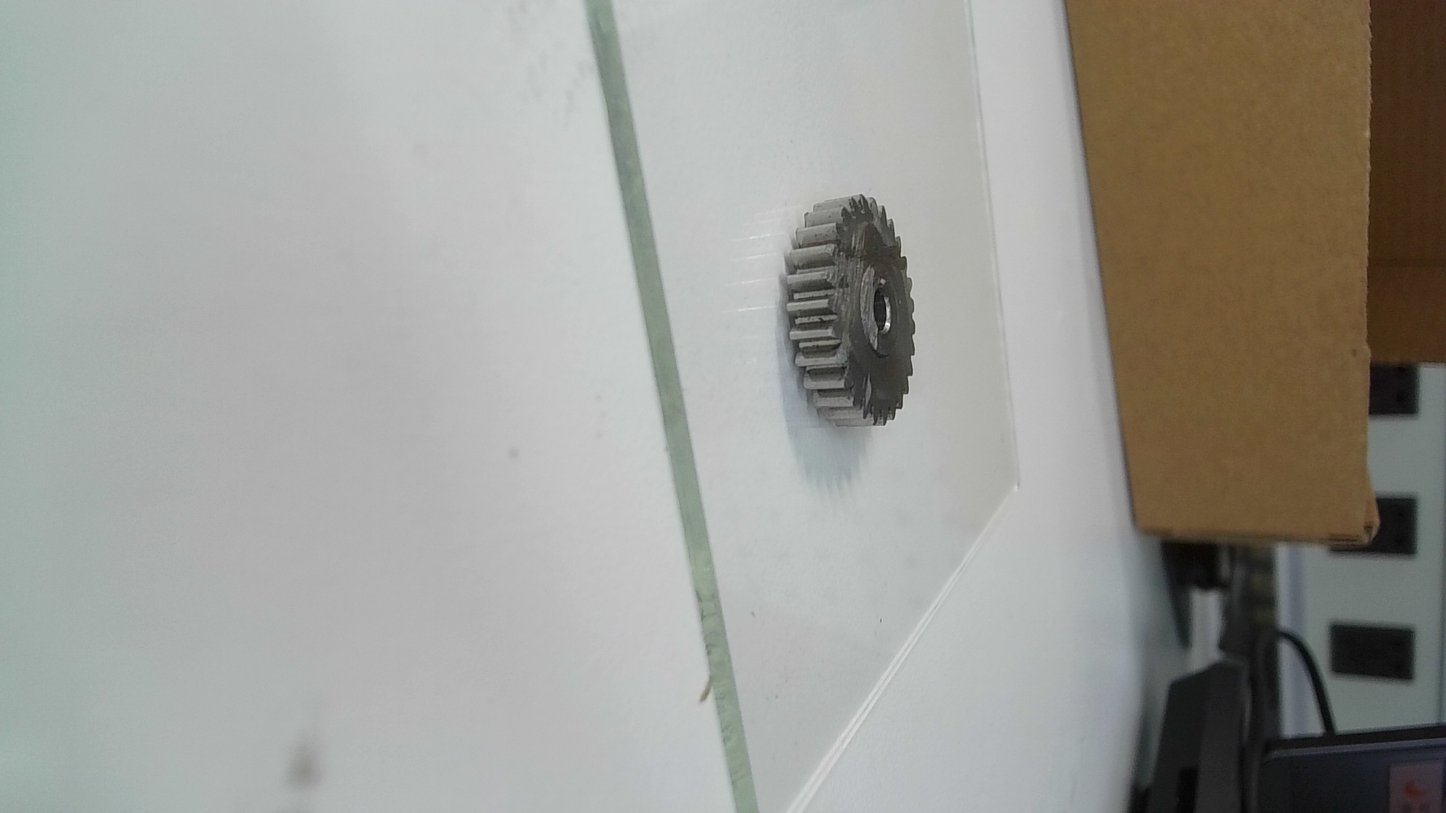gear: (783, 188, 922, 428)
